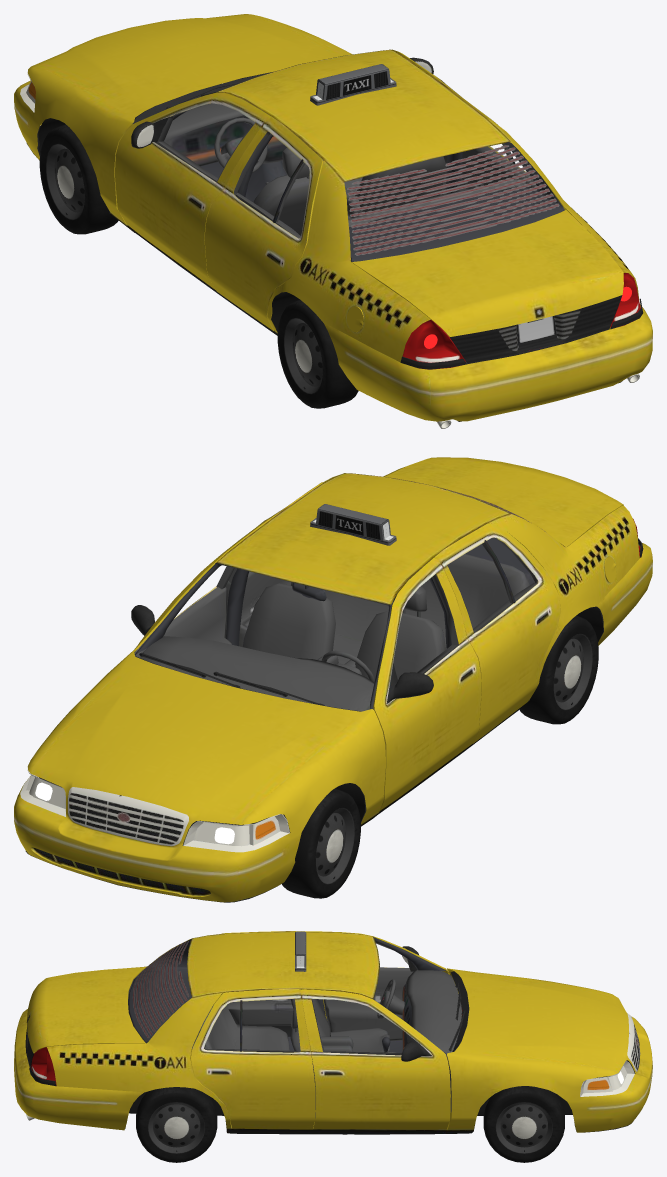
The model's file is taxi.glb.
3 renders of one model, top to bottom at view 1: azimuth 30°, elevation 25°; view 2: azimuth 150°, elevation 25°; view 3: azimuth 270°, elevation 25°, orthographic. The views are drawn at different scales.
Bounding box in the file's own units: 2.28 × 1.72 × 5.73.
11 materials, 8 textured.
